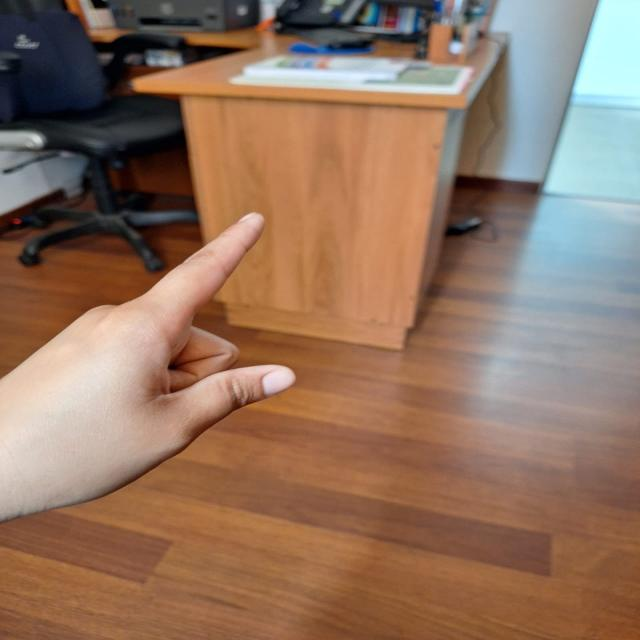X: (0, 200, 315, 519)
